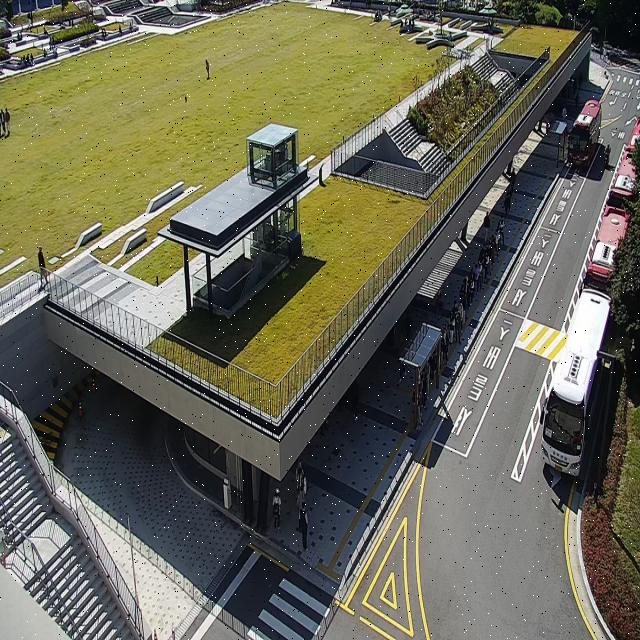queue: (416, 215, 504, 430)
